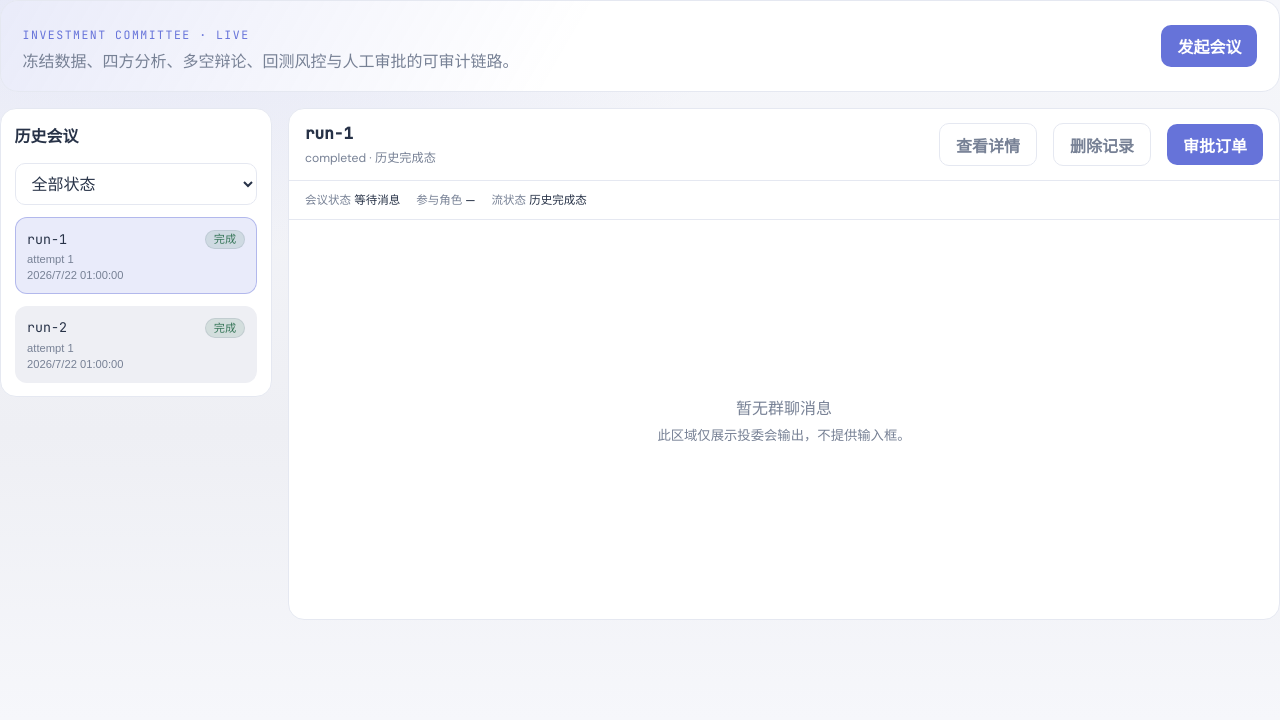
Test: CommitteePage › 删除成功但刷新失败时移除本地记录且不自动选择
The image size is (1280, 720).
Step 1. Click the button "删除记录" → (1102, 145), box [1053,123,1151,166]
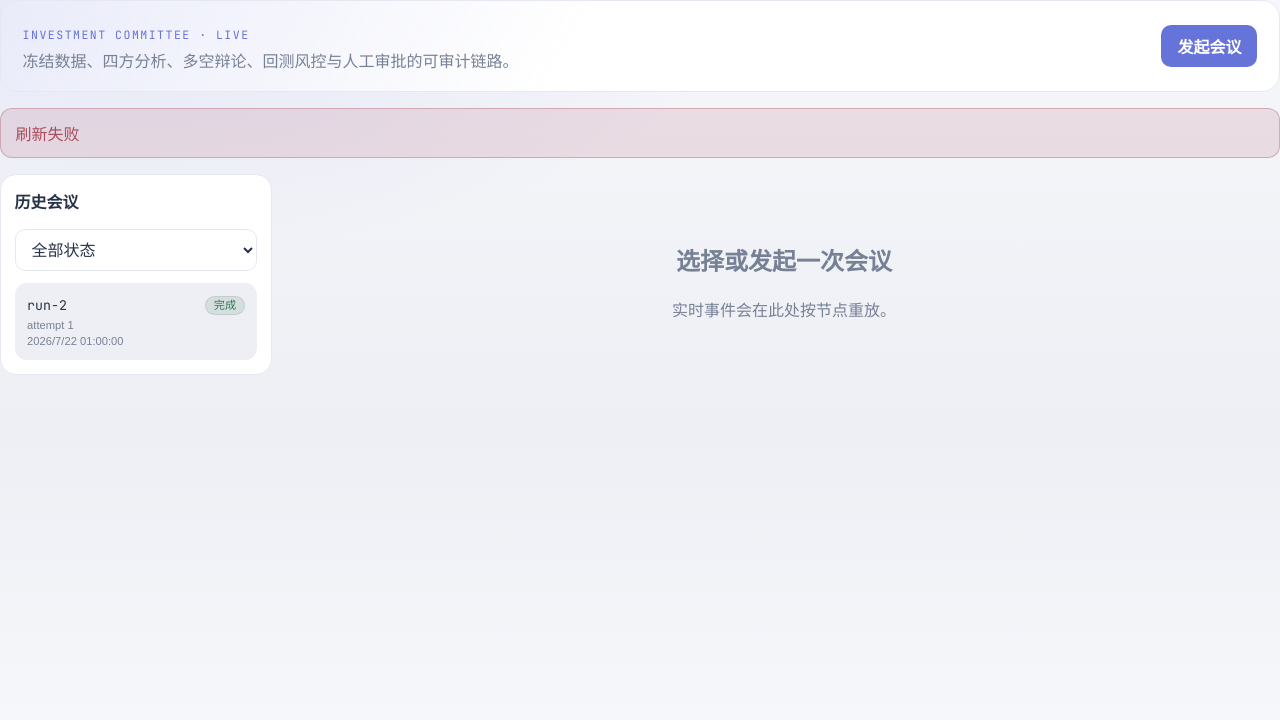
Expected: the message reads "刷新失败", [15,124,79,145]
Expected: the button "run-1" is gone
Expected: the heading "选择或发起一次会议" is shown, [676,246,892,277]
